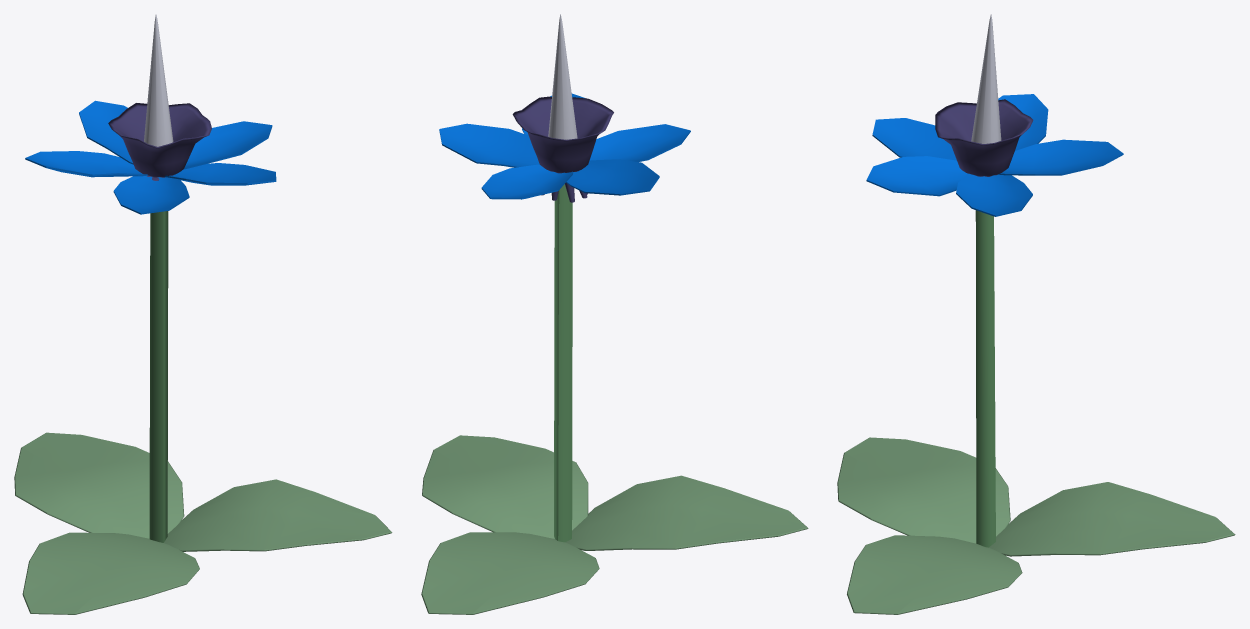
The model's file is Spearling.fbx.
3 renders of one model, left to right at view 1: azimuth 30°, elevation 25°; view 2: azimuth 150°, elevation 25°; view 3: azimuth 270°, elevation 25°, orthographic.
Parts seen in each view (by area): view 1: Leaf1, Leaf3, Leaf2, Stem, Petunia, Petal3, Petal5, Petal1, Spike, Petal4, Petal2; view 2: Leaf3, Leaf2, Leaf1, Stem, Petunia, Petal3, Petal5, Petal1, Petal2, Spike; view 3: Leaf3, Leaf1, Leaf2, Stem, Petunia, Petal2, Petal4, Petal3, Petal5, Spike, Petal1.
Part boxes in pixels (x1,y1,x2,y2): Leaf1: [14, 432, 184, 538]; Leaf3: [22, 532, 199, 614]; Leaf2: [164, 479, 392, 551]; Stem: [149, 211, 168, 542]; Petunia: [108, 103, 211, 177]; Petal3: [183, 121, 272, 169]; Petal5: [113, 173, 189, 214]; Petal1: [25, 151, 148, 177]; Spike: [144, 14, 173, 146]; Petal4: [164, 163, 276, 185]; Petal2: [79, 100, 133, 164]; Leaf3: [565, 475, 808, 550]; Leaf2: [422, 435, 588, 538]; Leaf1: [421, 532, 599, 614]; Stem: [554, 184, 572, 542]; Petunia: [512, 96, 613, 173]; Petal3: [439, 123, 539, 167]; Petal5: [578, 124, 690, 171]; Petal1: [566, 159, 659, 195]; Petal2: [481, 164, 572, 199]; Spike: [548, 14, 577, 139]; Leaf3: [837, 437, 1010, 543]; Leaf1: [989, 482, 1235, 556]; Leaf2: [847, 535, 1022, 614]; Stem: [975, 210, 995, 547]; Petunia: [935, 99, 1033, 176]; Petal2: [998, 139, 1123, 175]; Petal4: [866, 156, 967, 196]; Petal3: [956, 173, 1032, 216]; Petal5: [872, 118, 956, 160]; Spike: [971, 14, 1001, 143]; Petal1: [998, 94, 1048, 150].
Bounding box in the file's own units: 6.45 × 9.11 × 6.13.
